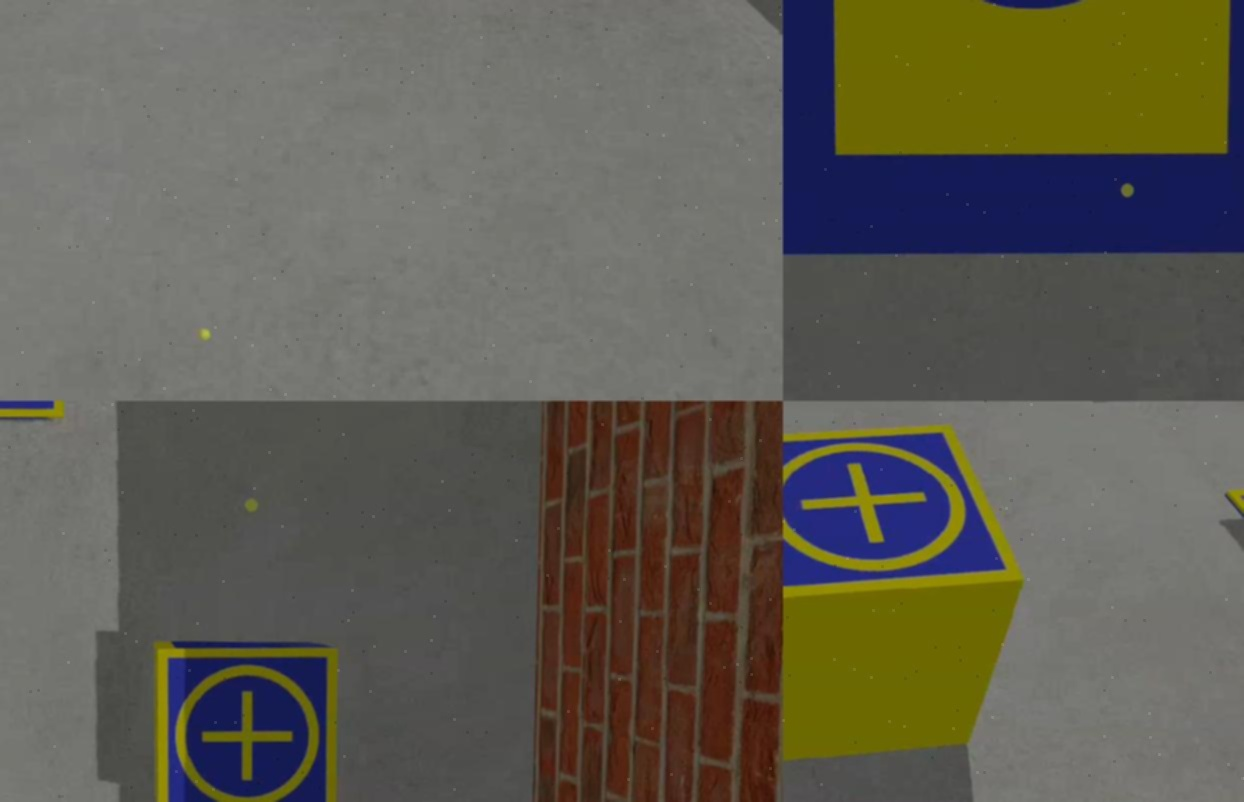large_base: (783, 1, 1244, 265)
small_base: (783, 423, 1027, 608), (153, 641, 343, 802)
